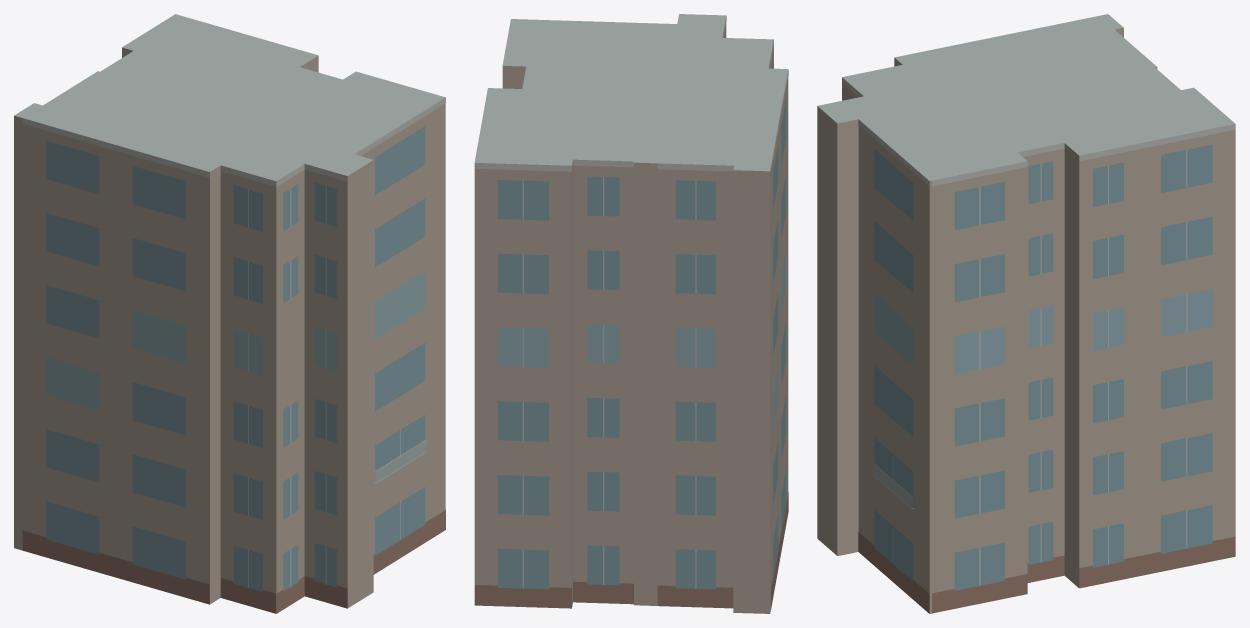
Rendered from survey-upis-32921295.glb.
3 renders of one model, left to right at view 1: azimuth 30°, elevation 25°; view 2: azimuth 150°, elevation 25°; view 3: azimuth 270°, elevation 25°, orthographic. The views are drawn at different scales.
Parts seen in each view (by area): view 1: survey-upis-32921295.tmp; view 2: survey-upis-32921295.tmp; view 3: survey-upis-32921295.tmp.
Boxes of the visible parts, bbox=[...] form: survey-upis-32921295.tmp: bbox=[14, 14, 445, 613]; survey-upis-32921295.tmp: bbox=[474, 14, 788, 613]; survey-upis-32921295.tmp: bbox=[817, 14, 1235, 613].
Size of the model in its own units: 15.17 by 18.3 by 16.05.
